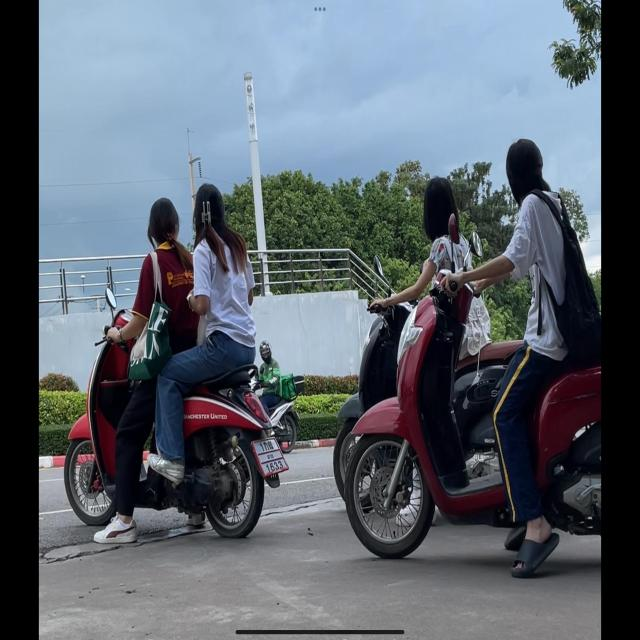seatbelt: (504, 137, 546, 203), (421, 174, 460, 242), (193, 181, 227, 237), (146, 197, 180, 247)
